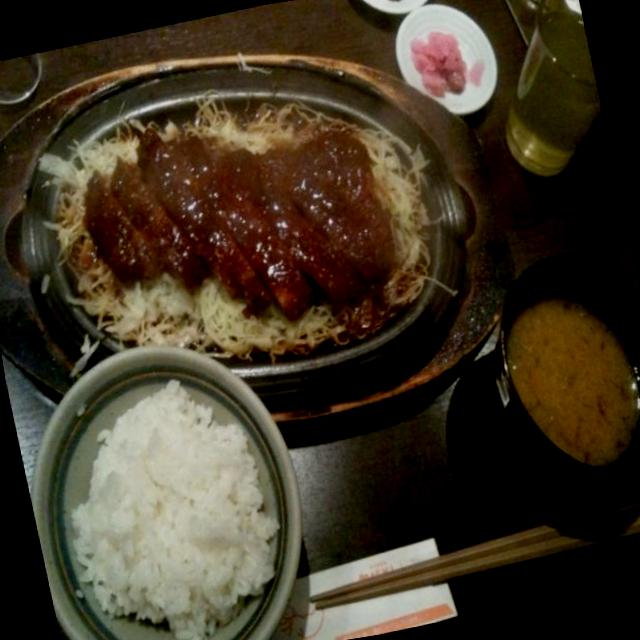Rice: (4, 324, 333, 640)
